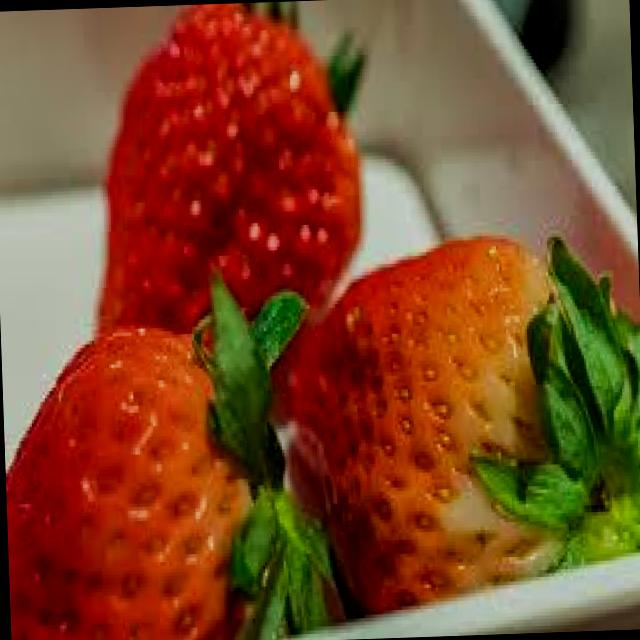strawberry: (273, 225, 640, 601), (70, 0, 381, 330), (5, 325, 316, 640)
